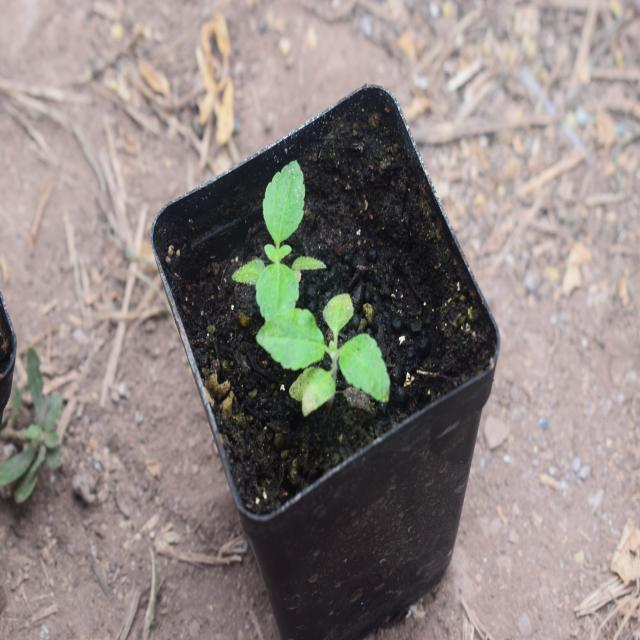billygoat_weed: (243, 268, 382, 413), (234, 169, 319, 339)
